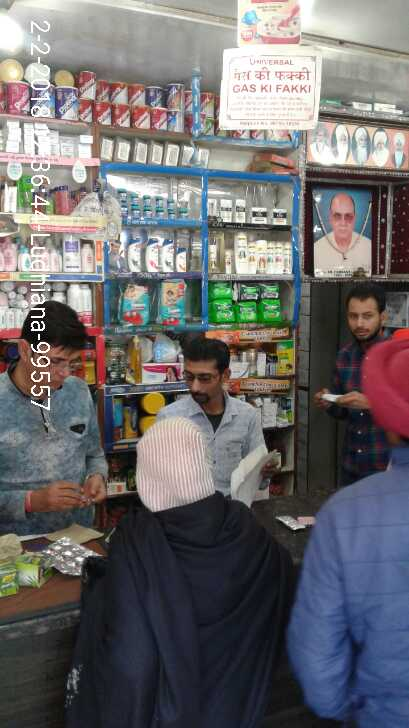vicks: (116, 184, 190, 223)
